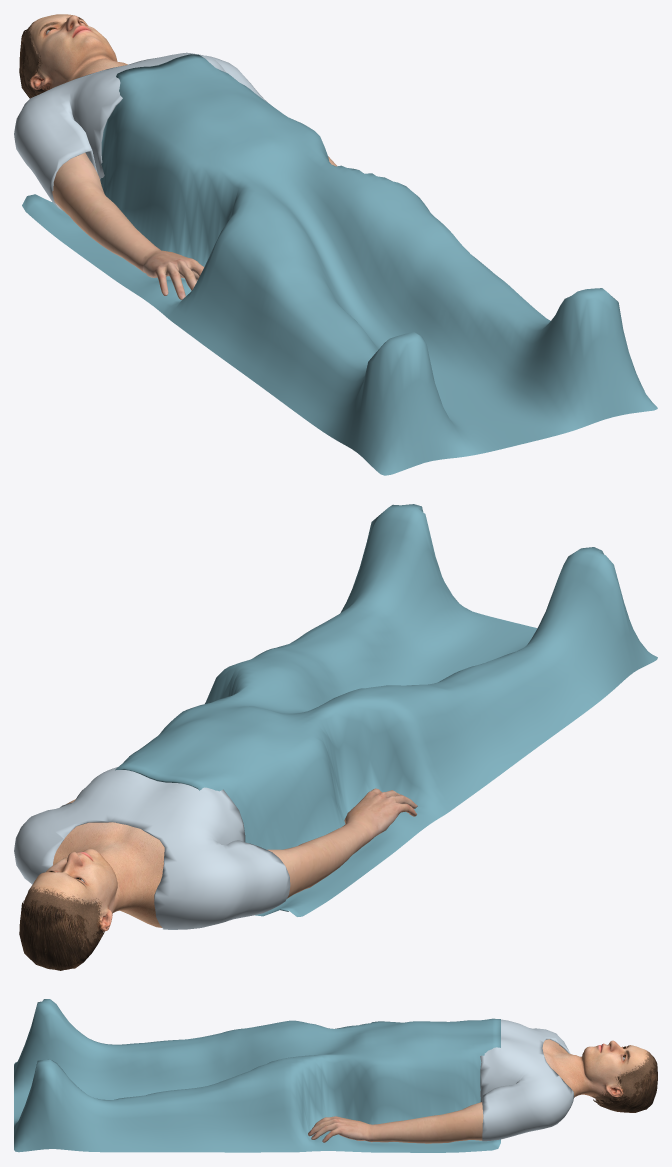
3 views of the same model, one above another, from view 1: azimuth 30°, elevation 25°; view 2: azimuth 150°, elevation 25°; view 3: azimuth 270°, elevation 25° (orthographic). The views are drawn at different scales.
Parts seen in each view (by area): view 1: sheet, gown, arms, body; view 2: sheet, gown, body, arms, hair; view 3: sheet, gown, body, arms, hair.
Part boxes in pixels (x1,y1,x2,y2): sheet: [22, 54, 657, 475]; gown: [14, 52, 282, 210]; arms: [52, 153, 337, 299]; body: [21, 14, 127, 93]; sheet: [115, 504, 657, 916]; gown: [14, 767, 290, 929]; body: [24, 822, 164, 969]; arms: [66, 788, 417, 898]; hair: [19, 898, 104, 970]; sheet: [14, 999, 500, 1152]; gown: [480, 1019, 574, 1141]; body: [542, 1039, 655, 1103]; arms: [308, 1102, 483, 1143]; hair: [593, 1056, 657, 1112].
Bounding box in the file's own units: 0.6434 × 0.2588 × 1.94.
8 materials, 6 textured.
